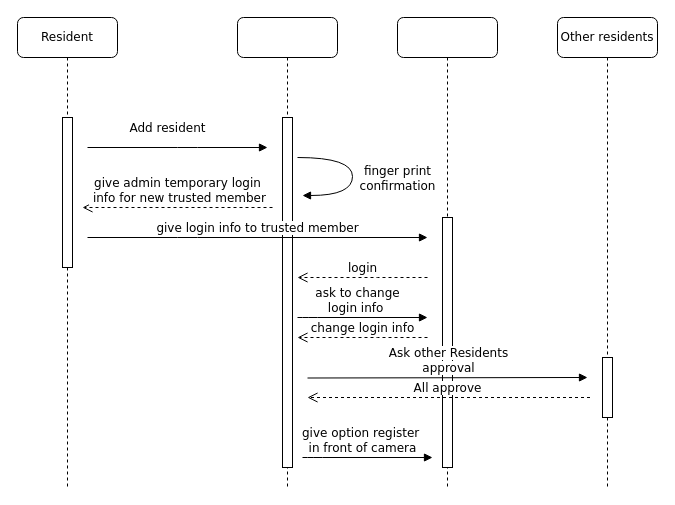
Some shapes in this 675 by 505 pixel diagram are drawn without their labels. The centre of each missing label's shape, as x and y in pixels:
New Trusted Member: the point at 447,252
Server: the point at 287,252
